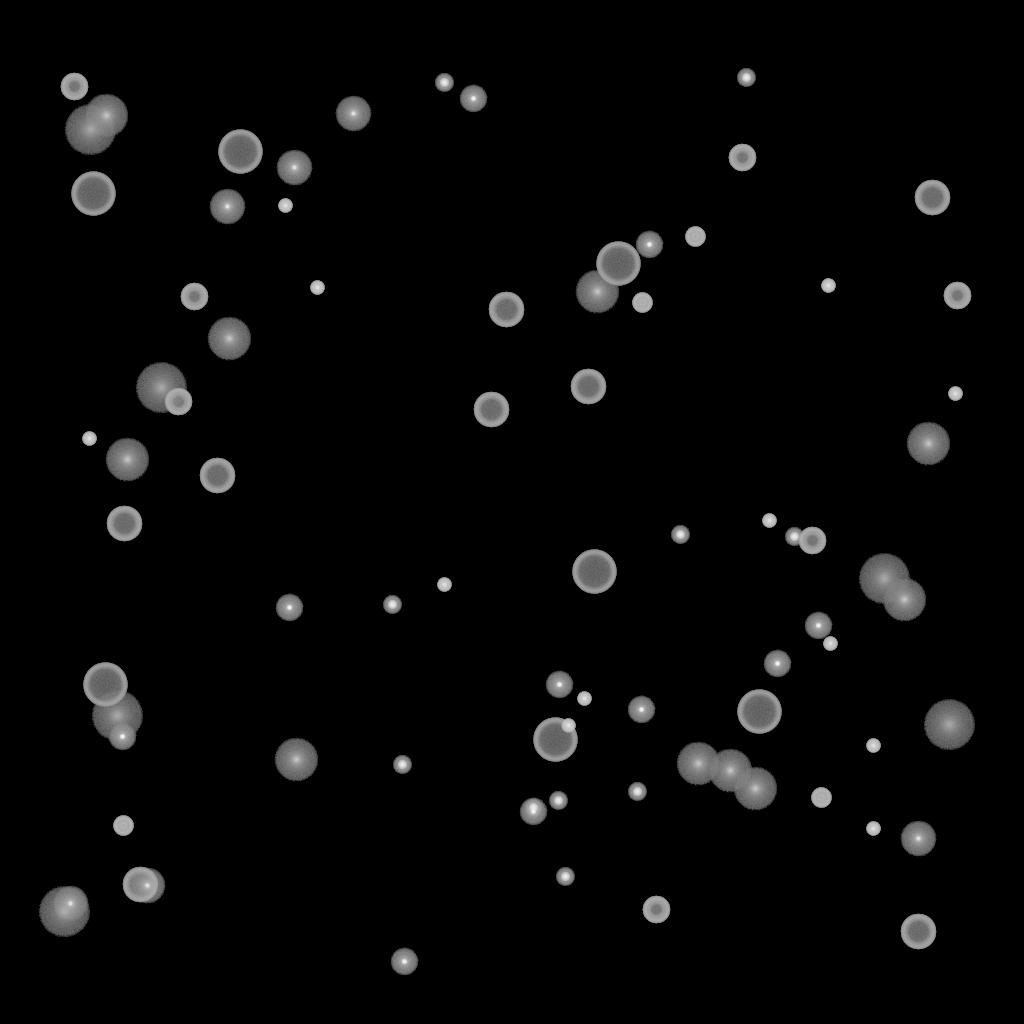depth:-10: (545, 671, 573, 699), (804, 612, 832, 640), (519, 798, 547, 826), (635, 231, 663, 259), (275, 594, 303, 622), (108, 723, 136, 751), (459, 85, 487, 113), (763, 650, 791, 678), (627, 696, 655, 724), (390, 948, 418, 976)
depth:-20: (737, 69, 755, 87), (393, 756, 411, 774), (383, 596, 401, 614), (435, 74, 453, 92), (556, 868, 574, 886), (549, 792, 567, 810), (785, 528, 803, 546), (628, 783, 646, 801), (671, 526, 689, 544), (524, 799, 542, 817)
depth:-30: (823, 637, 837, 651), (577, 692, 591, 706), (278, 199, 292, 213), (82, 432, 96, 446), (821, 279, 835, 293), (948, 387, 962, 401), (310, 281, 324, 295), (762, 514, 776, 528), (866, 739, 880, 753), (437, 578, 451, 592), (866, 822, 880, 836), (561, 719, 575, 733)
depth:-40: (685, 227, 705, 247), (113, 816, 133, 836), (811, 788, 831, 808), (632, 293, 652, 313)
depth:-50: (728, 144, 756, 172), (60, 73, 88, 101), (943, 282, 971, 310), (164, 388, 192, 416), (798, 527, 826, 555), (180, 283, 208, 311), (642, 896, 670, 924)
depth:-60: (488, 292, 524, 328), (914, 180, 950, 216), (900, 914, 936, 950), (570, 369, 606, 405), (106, 506, 142, 542), (473, 392, 509, 428), (122, 867, 158, 903), (199, 458, 235, 494)
depth:-70: (596, 242, 640, 286), (533, 718, 577, 762), (71, 172, 115, 216), (218, 130, 262, 174), (572, 550, 616, 594), (737, 690, 781, 734), (83, 663, 127, 707)
depth:0: (276, 150, 312, 186), (900, 821, 936, 857), (52, 886, 88, 922), (129, 868, 165, 904), (335, 96, 371, 132), (209, 189, 245, 225)
depth:10: (676, 742, 720, 786), (906, 422, 950, 466), (207, 317, 251, 361), (733, 767, 777, 811), (274, 738, 318, 782), (882, 578, 926, 622), (708, 749, 752, 793), (575, 270, 619, 314), (84, 94, 128, 138), (105, 438, 149, 482)
depth:20: (858, 554, 910, 604), (91, 691, 143, 741), (64, 105, 116, 155), (38, 887, 90, 937), (923, 700, 975, 750), (135, 363, 187, 413)
